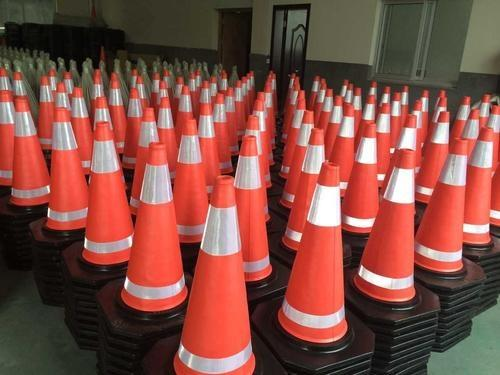cone_barrel: (169, 182, 258, 374), (273, 160, 355, 351), (113, 144, 186, 320), (349, 146, 415, 303), (75, 121, 133, 276), (414, 136, 467, 279), (277, 126, 326, 252), (41, 106, 86, 242), (233, 132, 273, 283), (6, 95, 48, 212), (171, 116, 209, 244), (339, 119, 378, 240), (464, 126, 494, 249), (36, 75, 52, 153), (375, 103, 390, 182)
